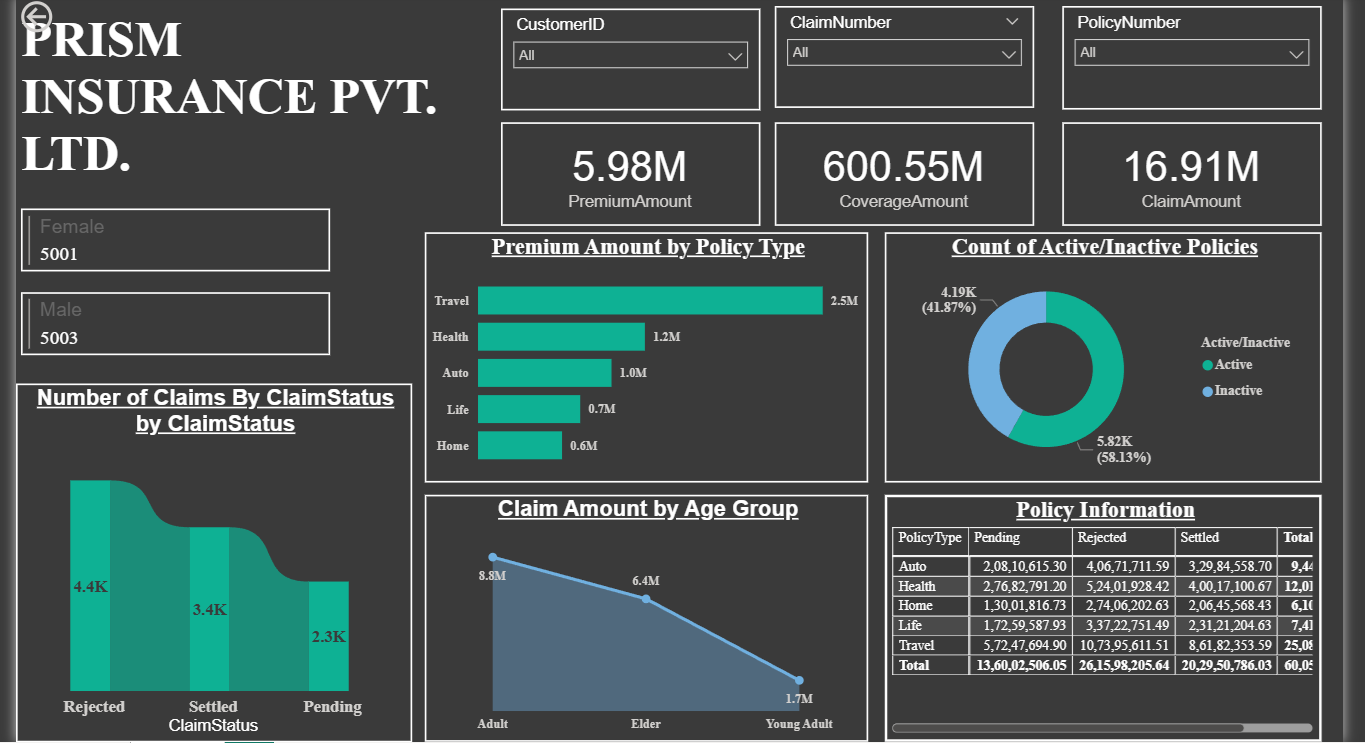

The dashboard page shown, as its layout file describes it:
{"tool":"powerbi","page":{"name":"Page 1","canvas":[1280,720],"ordinal":0},"visuals":[{"type":"slicer","fields":{"Values":["InsuranceData.PolicyNumber"]},"box":[1010,10,250,100],"z":0},{"type":"slicer","fields":{"Values":["InsuranceData.ClaimNumber"]},"box":[732,10,250,98],"z":1000},{"type":"slicer","fields":{"Values":["InsuranceData.CustomerID"]},"box":[468,12,250,98],"z":2000},{"type":"textbox","box":[0,10,456,190],"z":3000},{"type":"card","fields":{"Values":["Sum(InsuranceData.PremiumAmount)"]},"box":[468,122,250,100],"z":4000},{"type":"card","fields":{"Values":["Sum(InsuranceData.CoverageAmount)"]},"box":[732,122,250,100],"z":5000},{"type":"card","fields":{"Values":["Sum(InsuranceData.ClaimAmount)"]},"box":[1010,122,250,100],"z":6000},{"type":"actionButton","box":[0,0,100,40],"z":7000},{"type":"multiRowCard","fields":{"Values":["InsuranceData.Gender","CountNonNull(InsuranceData.Gender)"]},"box":[0,200,308,174],"z":8000},{"type":"ribbonChart","title":"Number of Claims By ClaimStatus by ClaimStatus","fields":{"Category":["InsuranceData.ClaimStatus"],"Y":["CountNonNull(InsuranceData.ClaimStatus)"]},"box":[0,374,382,346],"z":9000},{"type":"barChart","title":"Premium Amount by Policy Type","fields":{"Category":["InsuranceData.PolicyType"],"Y":["Sum(InsuranceData.PremiumAmount)"]},"box":[395,228.3,428.3,241.7],"z":10000},{"type":"lineChart","title":"Claim Amount by Age Group","fields":{"Category":["InsuranceData.Age Group"],"Y":["Sum(InsuranceData.ClaimAmount)"]},"box":[395,481.7,428.3,238.3],"z":11000},{"type":"donutChart","title":"Count of Active/Inactive Policies","fields":{"Category":["InsuranceData.Active/Inactive"],"Y":["CountNonNull(InsuranceData.Active/Inactive)"]},"box":[838.3,228.3,421.7,241.7],"z":12000},{"type":"pivotTable","title":"Policy Information","fields":{"Values":["Sum(InsuranceData.CoverageAmount)"],"Rows":["InsuranceData.PolicyType"],"Columns":["InsuranceData.ClaimStatus"]},"box":[838.3,481.7,421.7,238.3],"z":13000}]}

Visuals, with their boxes in screenshot pixels (x1, y1, x2, y2):
slicer - InsuranceData.PolicyNumber: l=1060, t=10, r=1314, b=112
slicer - InsuranceData.ClaimNumber: l=777, t=10, r=1031, b=110
slicer - InsuranceData.CustomerID: l=508, t=12, r=763, b=112
textbox: l=32, t=10, r=496, b=204
card - Sum(InsuranceData.PremiumAmount): l=508, t=124, r=763, b=226
card - Sum(InsuranceData.CoverageAmount): l=777, t=124, r=1031, b=226
card - Sum(InsuranceData.ClaimAmount): l=1060, t=124, r=1314, b=226
actionButton: l=32, t=0, r=134, b=41
multiRowCard - InsuranceData.Gender x CountNonNull(InsuranceData.Gender): l=32, t=204, r=345, b=381
"Number of Claims By ClaimStatus by ClaimStatus" ribbonChart: l=32, t=381, r=421, b=733
"Premium Amount by Policy Type" barChart: l=434, t=232, r=870, b=478
"Claim Amount by Age Group" lineChart: l=434, t=490, r=870, b=733
"Count of Active/Inactive Policies" donutChart: l=885, t=232, r=1314, b=478
"Policy Information" pivotTable: l=885, t=490, r=1314, b=733
